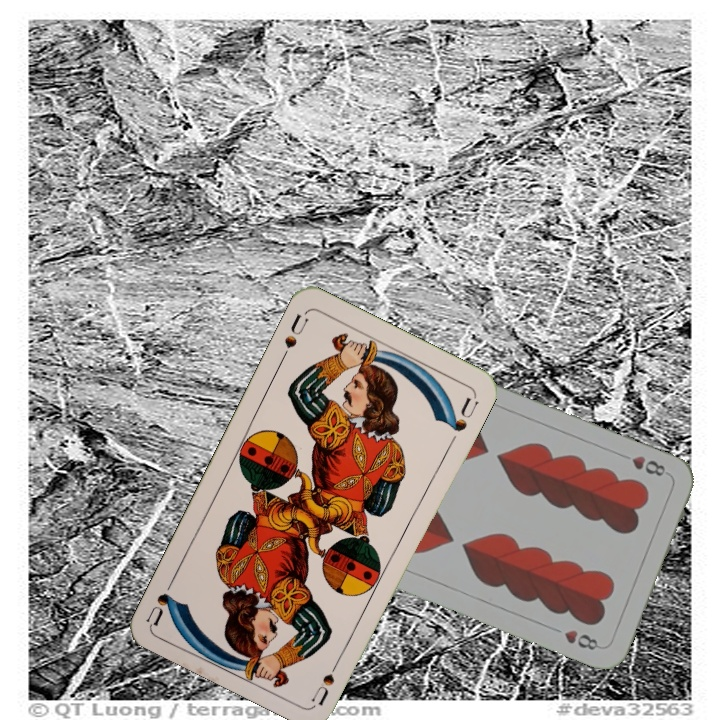H8: (615, 449, 668, 479)
SU: (307, 650, 345, 707), (277, 310, 312, 364)
